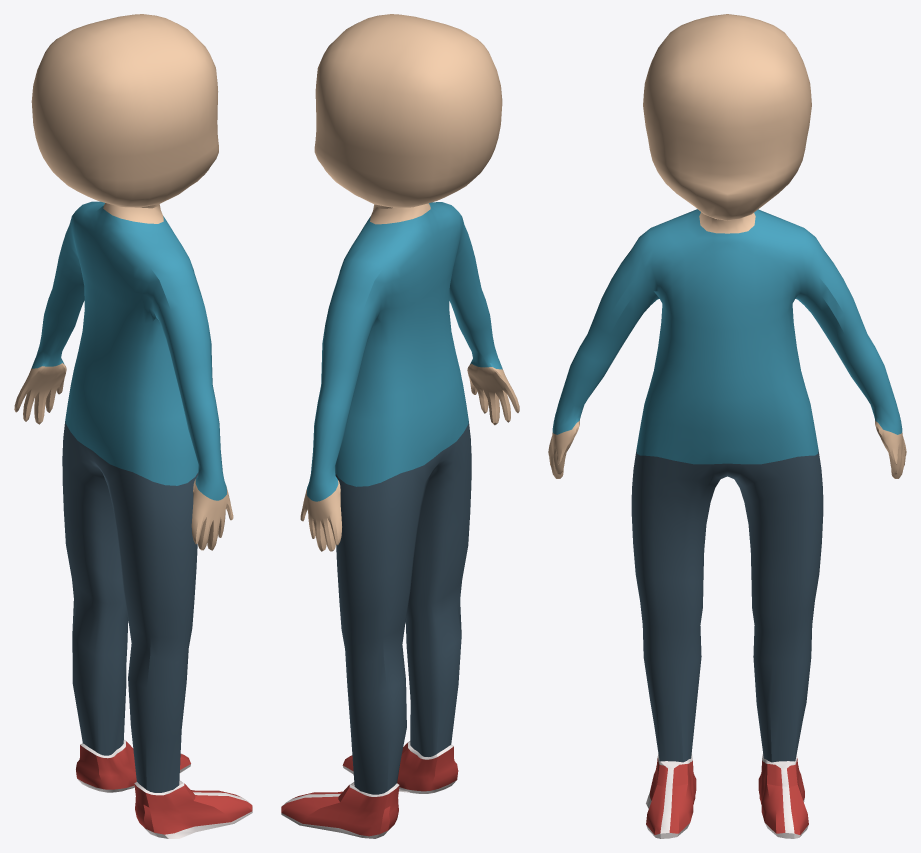
The model's file is Body.fbx.
3 renders of one model, left to right at view 1: azimuth 30°, elevation 25°; view 2: azimuth 150°, elevation 25°; view 3: azimuth 270°, elevation 25°, orthographic. The views are drawn at different scales.
Visible parts, largest first — view 1: Body; view 2: Body; view 3: Body.
Boxes of the visible parts, x1,y1,x2,y2 form: Body: [14, 14, 252, 838]; Body: [281, 14, 519, 838]; Body: [548, 14, 906, 838].
Size of the model in its own units: 97.71 by 422 by 177.
